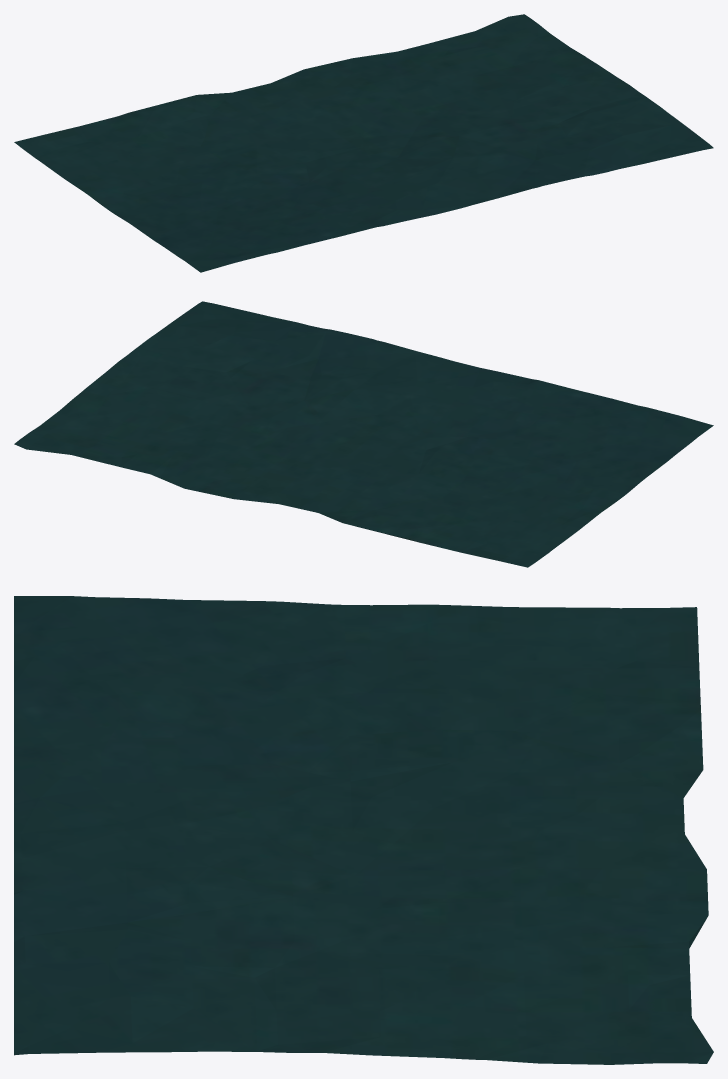
3 renders of one model, top to bottom at view 1: azimuth 30°, elevation 25°; view 2: azimuth 150°, elevation 25°; view 3: azimuth 270°, elevation 25°, orthographic. The views are drawn at different scales.
Size of the model in its own units: 52.22 by 1.08 by 33.71.
2 materials, 2 textured.
